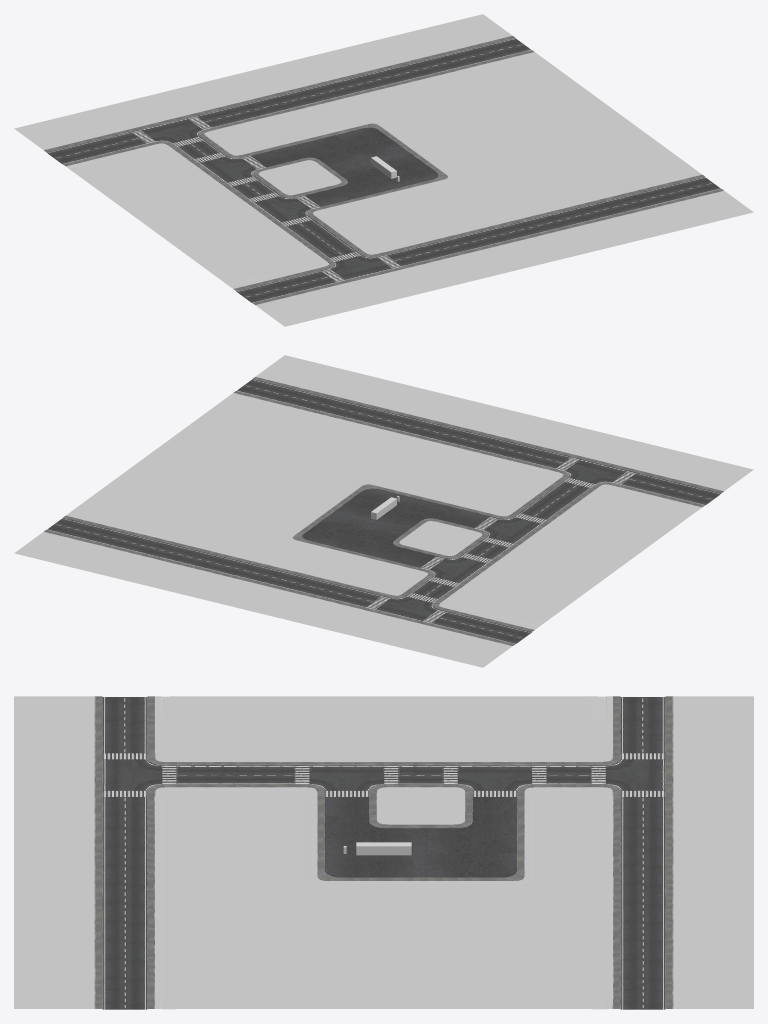
File: VRTransitLevel7.fbx
3 views of the same model, one above another, from view 1: azimuth 30°, elevation 25°; view 2: azimuth 150°, elevation 25°; view 3: azimuth 270°, elevation 25° (orthographic). The views are drawn at different scales.
Visible parts, largest first — view 1: Plane; view 2: Plane; view 3: Plane, Cube.001.
Part boxes in pixels (x1=…): Plane: x1=14, y1=14, x2=753, y2=326; Plane: x1=14, y1=355, x2=753, y2=667; Plane: x1=14, y1=696, x2=753, y2=1009; Cube.001: x1=356, y1=842, x2=411, y2=855.
Bounding box in the file's own units: 20000 × 267 × 20000.
3 materials, 2 textured.
